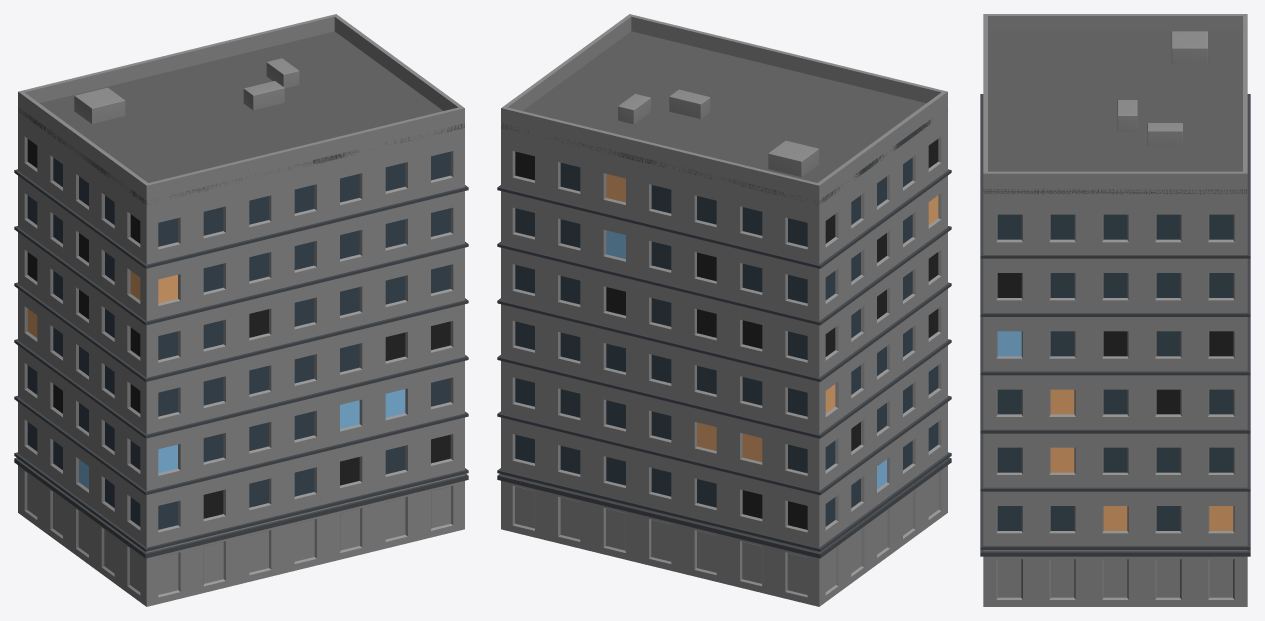
File: Building_Block_B.fbx
3 renders of one model, left to right at view 1: azimuth 30°, elevation 25°; view 2: azimuth 150°, elevation 25°; view 3: azimuth 270°, elevation 25°, orthographic. The views are drawn at different scales.
Parts seen in each view (by area): view 1: Building_Block_B_LOD0; view 2: Building_Block_B_LOD0; view 3: Building_Block_B_LOD0.
Boxes of the visible parts, box(x1,y1,x2,y2) form: Building_Block_B_LOD0: box(14, 14, 468, 606); Building_Block_B_LOD0: box(497, 14, 951, 606); Building_Block_B_LOD0: box(980, 14, 1250, 606).
Size of what is drawn, in the model's own units: 20.3 by 25.37 by 14.3.
